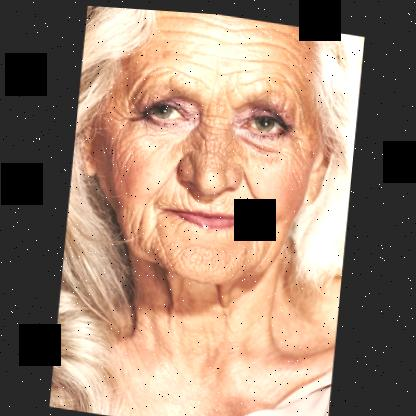Female: (70, 4, 344, 299)
